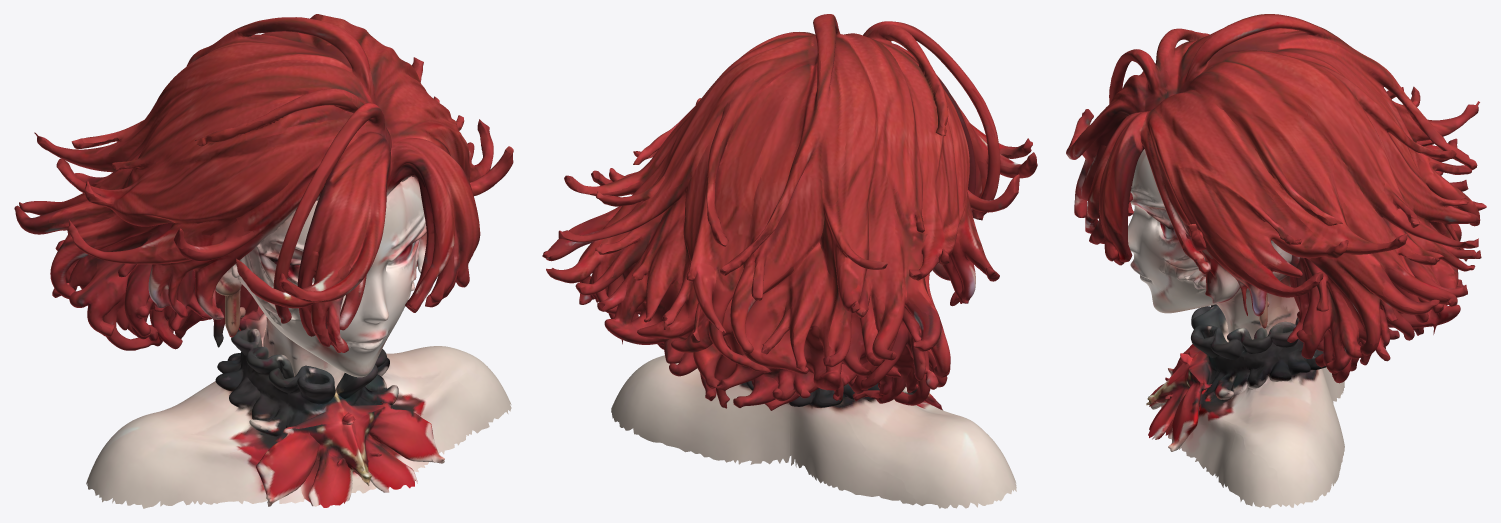
The model's file is pierrot_head_sample.glb.
3 renders of one model, left to right at view 1: azimuth 30°, elevation 25°; view 2: azimuth 150°, elevation 25°; view 3: azimuth 270°, elevation 25°, orthographic. The views are drawn at different scales.
Visible parts, largest first — view 1: Pierrot_Head_Sample; view 2: Pierrot_Head_Sample; view 3: Pierrot_Head_Sample.
Boxes of the visible parts, <box> form: Pierrot_Head_Sample: <box>14,14,513,508</box>; Pierrot_Head_Sample: <box>542,14,1037,508</box>; Pierrot_Head_Sample: <box>1066,14,1486,508</box>.
Size of the model in its own units: 0.1935 by 0.1909 by 0.1825.
Materials: 1 (1 with a texture image).
